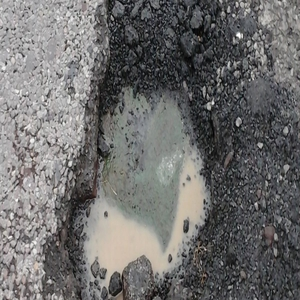pothole: (52, 5, 244, 300)
